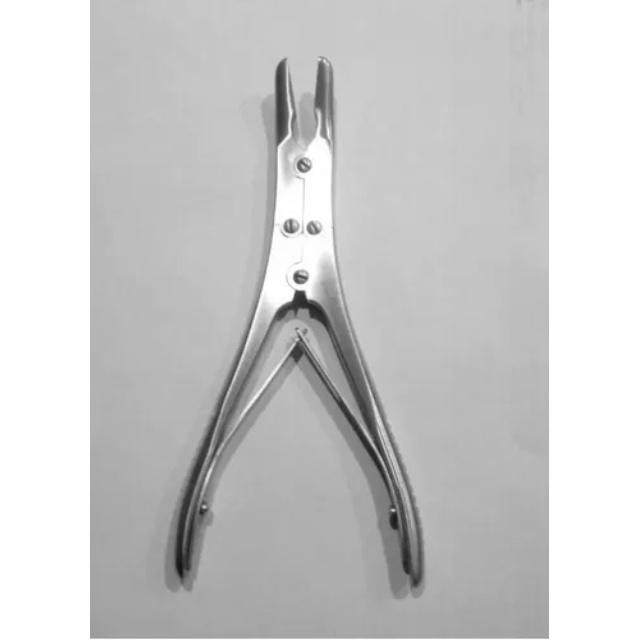gubia: (161, 57, 425, 599)
